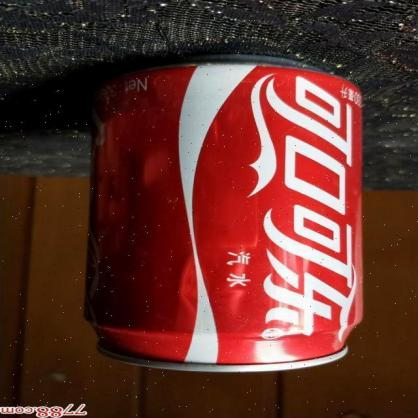can: (89, 55, 369, 372)
